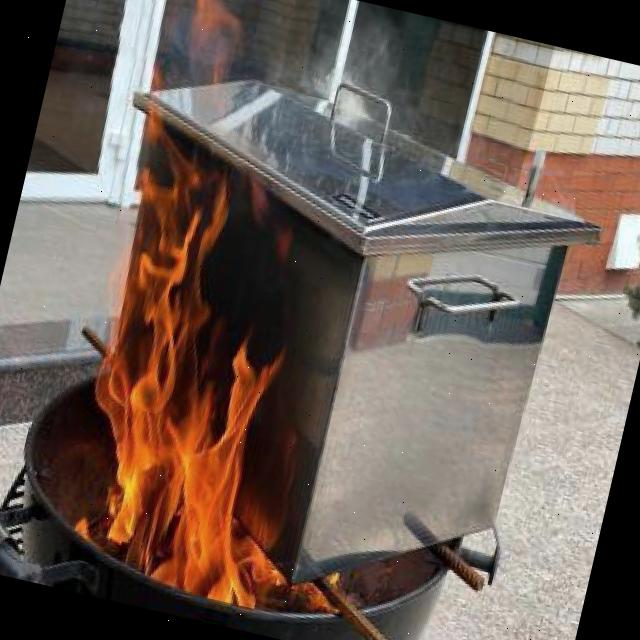fire: (36, 162, 323, 600), (277, 0, 471, 161)
